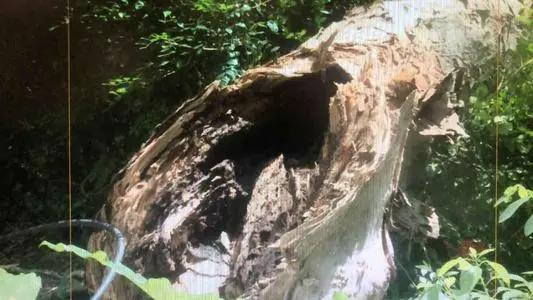Downstairs: (85, 1, 533, 297)
